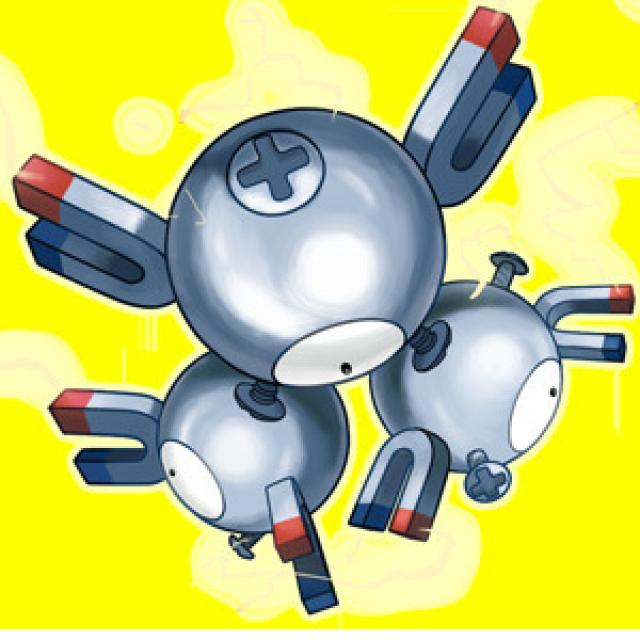Magneton: (21, 59, 598, 550)
